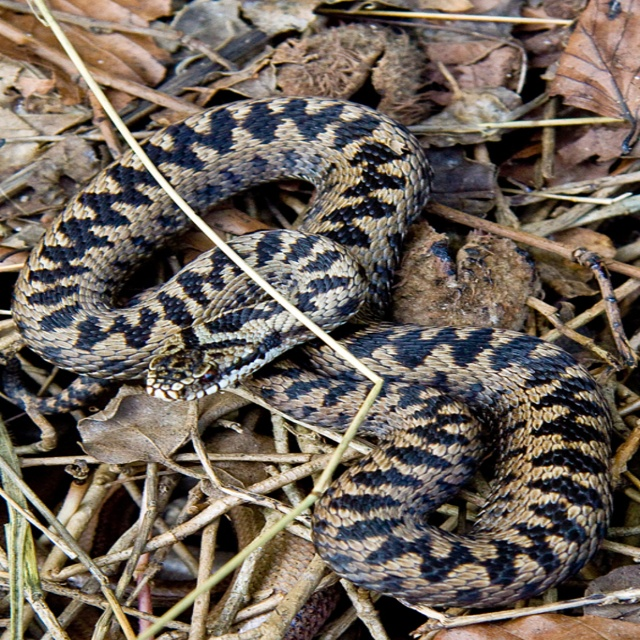Snake: (0, 93, 618, 610)
